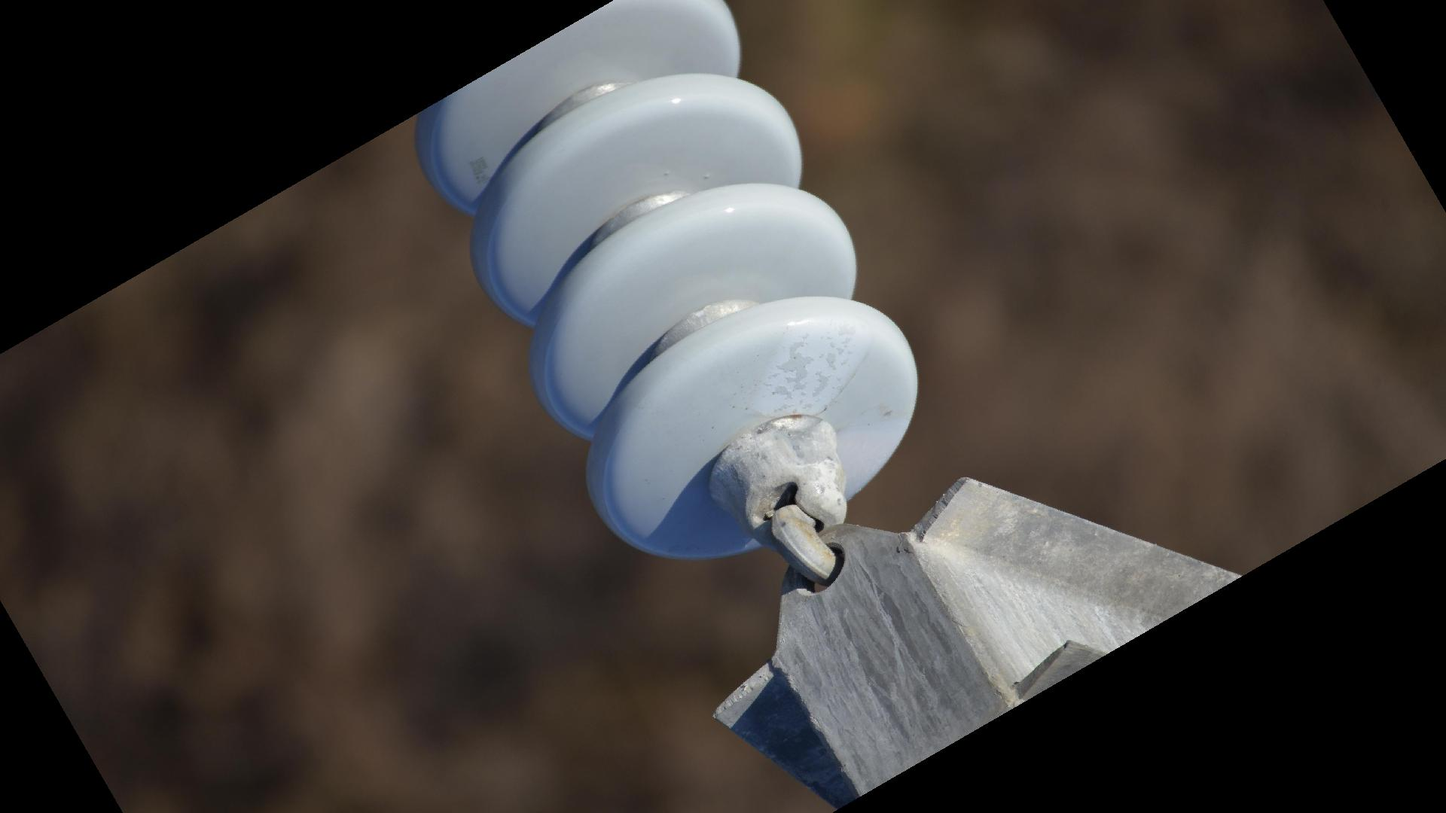insulator: (406, 1, 925, 570)
insulator_flashover: (749, 312, 871, 419)
